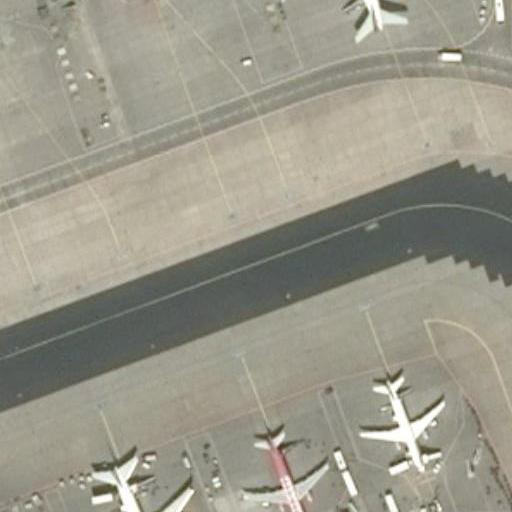Aircraft: (357, 368, 450, 477), (237, 422, 328, 512), (71, 455, 199, 512), (274, 0, 441, 39)
